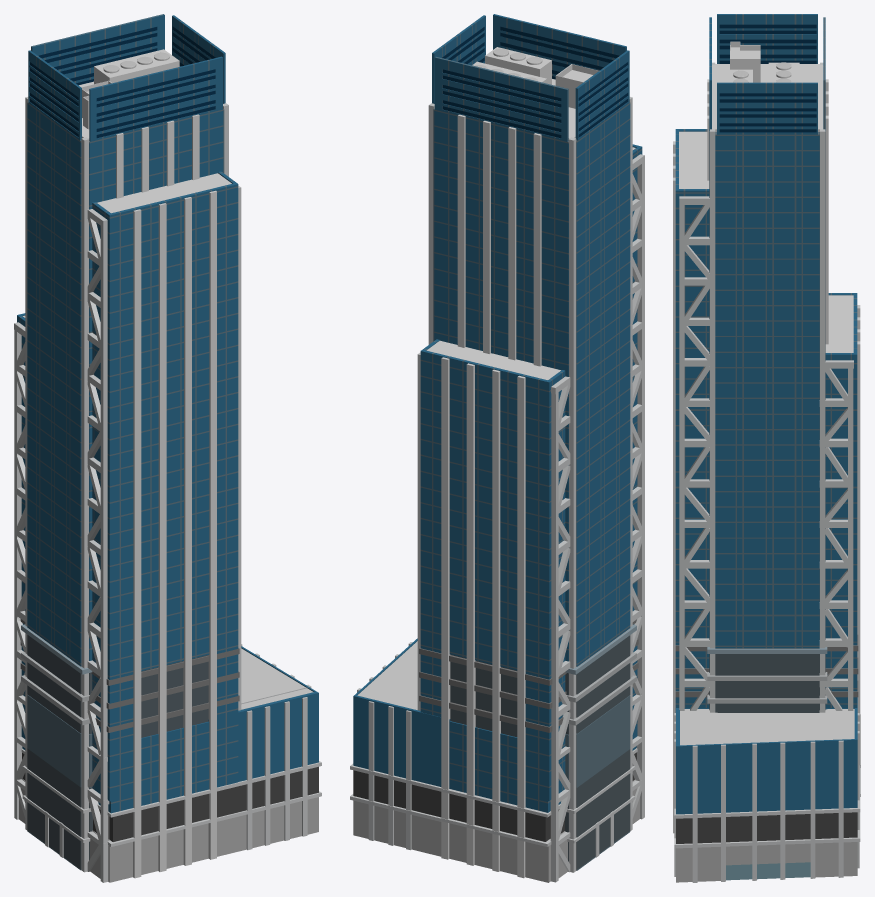
The model's file is wtc3.glb.
The picture shows the model from 3 angles, left to right: view 1: azimuth 30°, elevation 25°; view 2: azimuth 150°, elevation 25°; view 3: azimuth 270°, elevation 25°; orthographic projection. The views are drawn at different scales.
Visible parts, largest first — view 1: wtc3; view 2: wtc3; view 3: wtc3.
Boxes of the visible parts, <box> form: wtc3: <box>14,14,321,882</box>; wtc3: <box>350,14,644,882</box>; wtc3: <box>673,14,860,882</box>.
Size of the model in its own units: 43.99 by 148 by 32.84.
